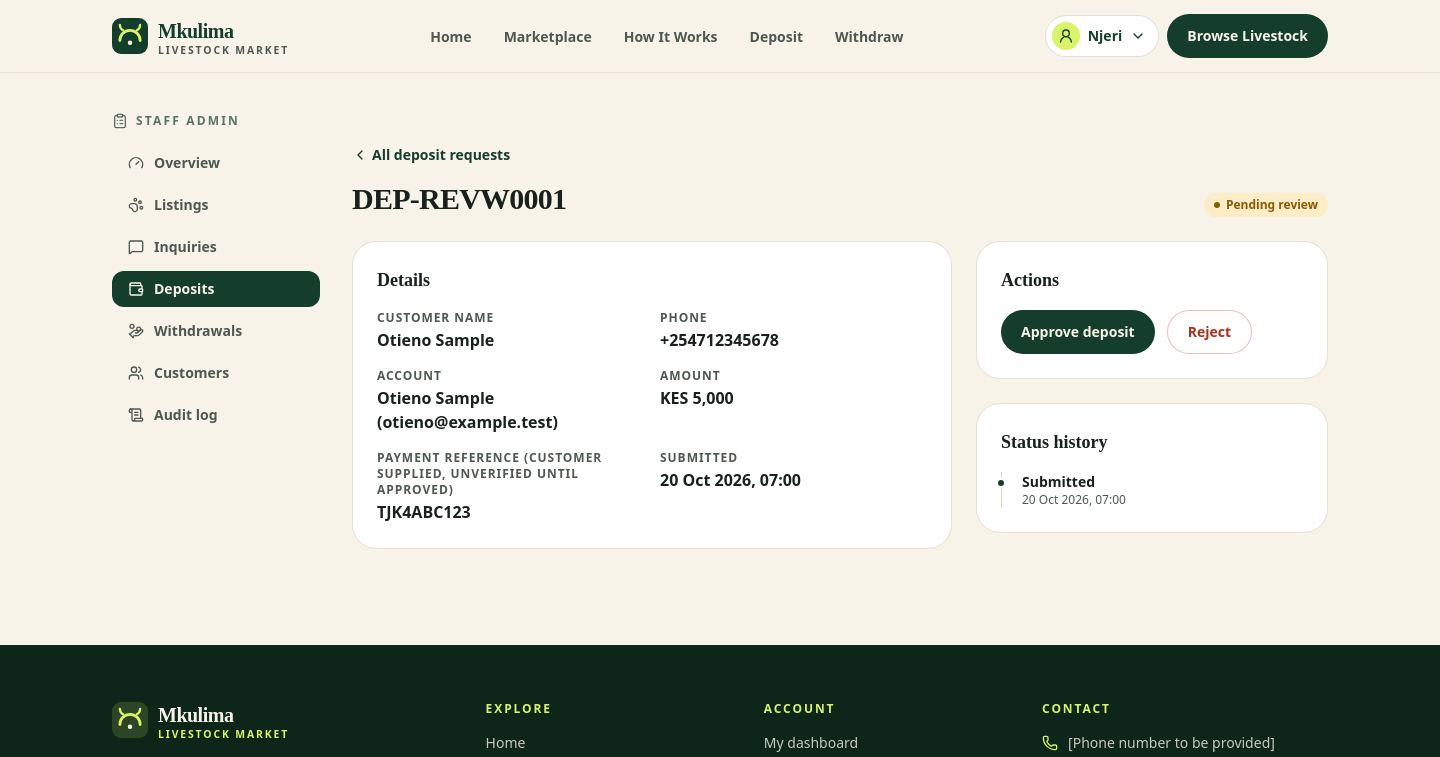
Staff admin › requires a reason to reject and shows server conflicts
The width and height of the screenshot is (1440, 757).
Click the button "Reject" at (1209, 332), box [1167,310,1252,354]
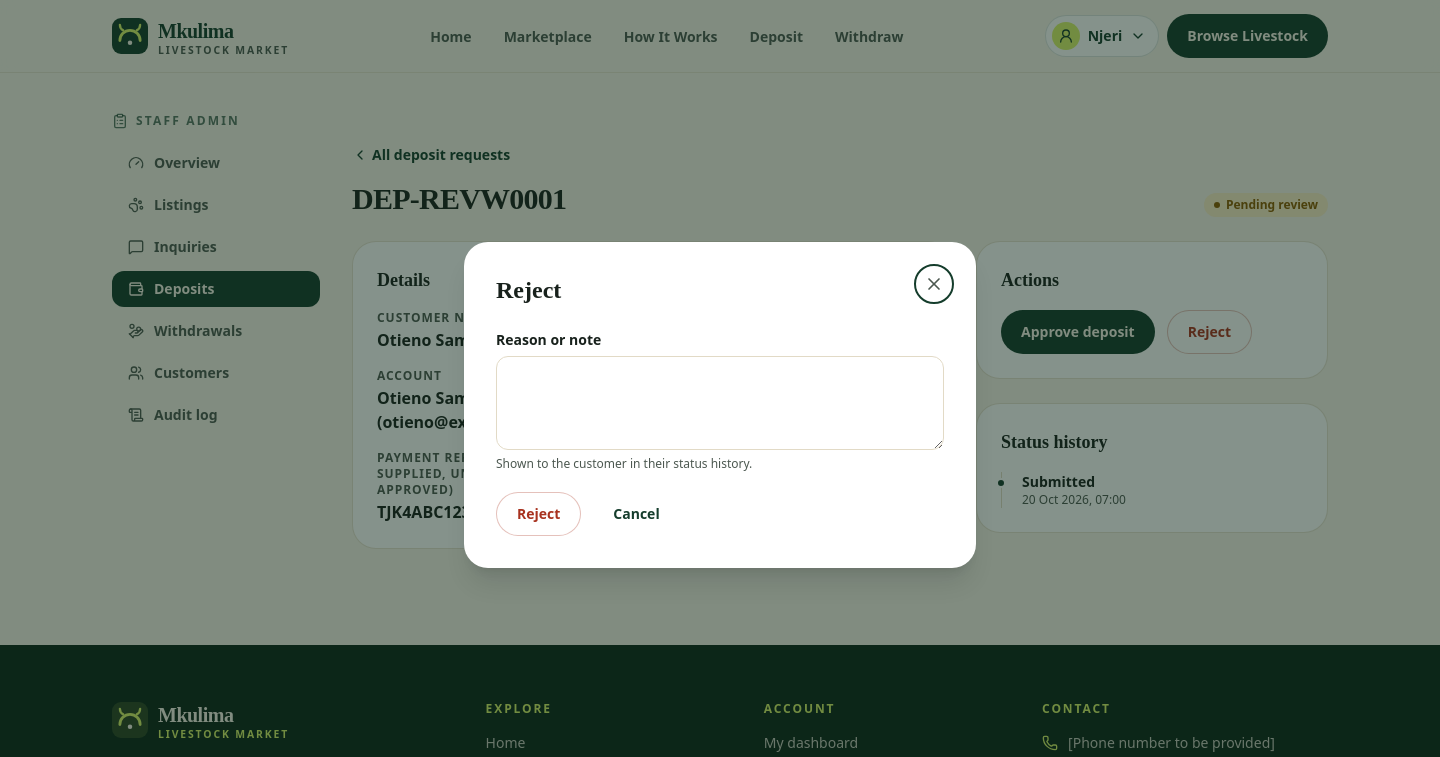
Click the button "Reject" at (539, 514), box [496,492,581,536]
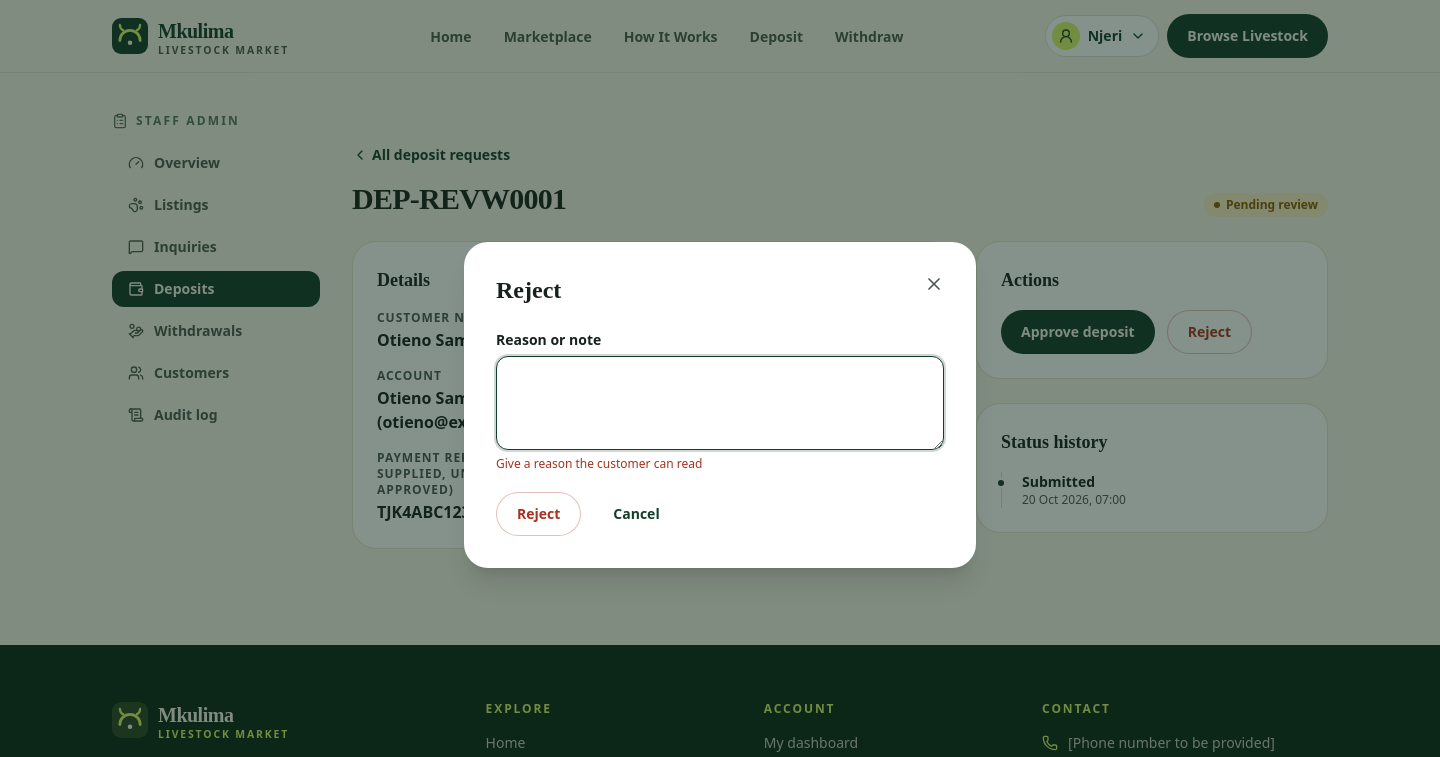
Now the text "Give a reason the customer can read" is shown, box [496,455,702,472]
Type "No matching payment found" into the text box labelled "Reason or note" at (720, 403), box [496,356,944,450]
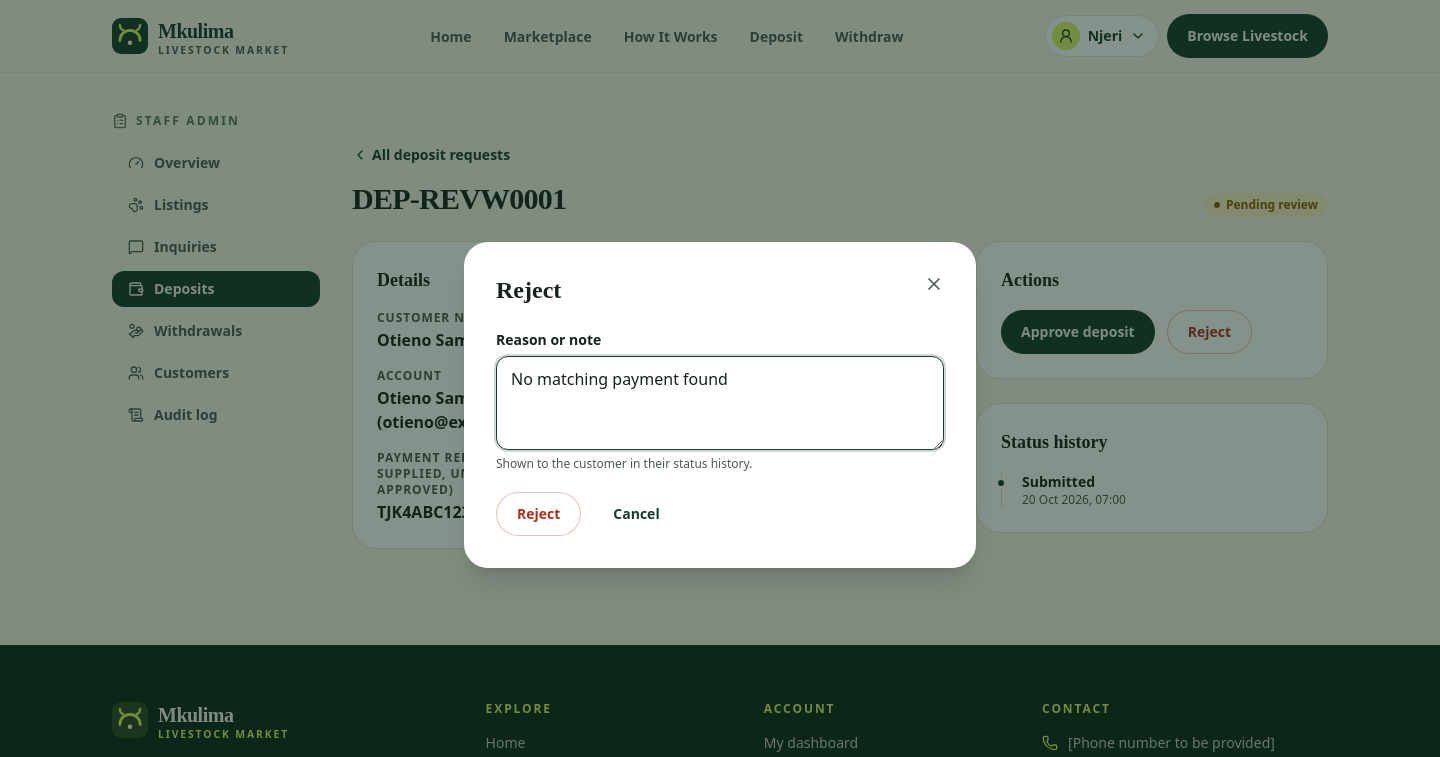
Click the button "Reject" at (539, 514), box [496,492,581,536]
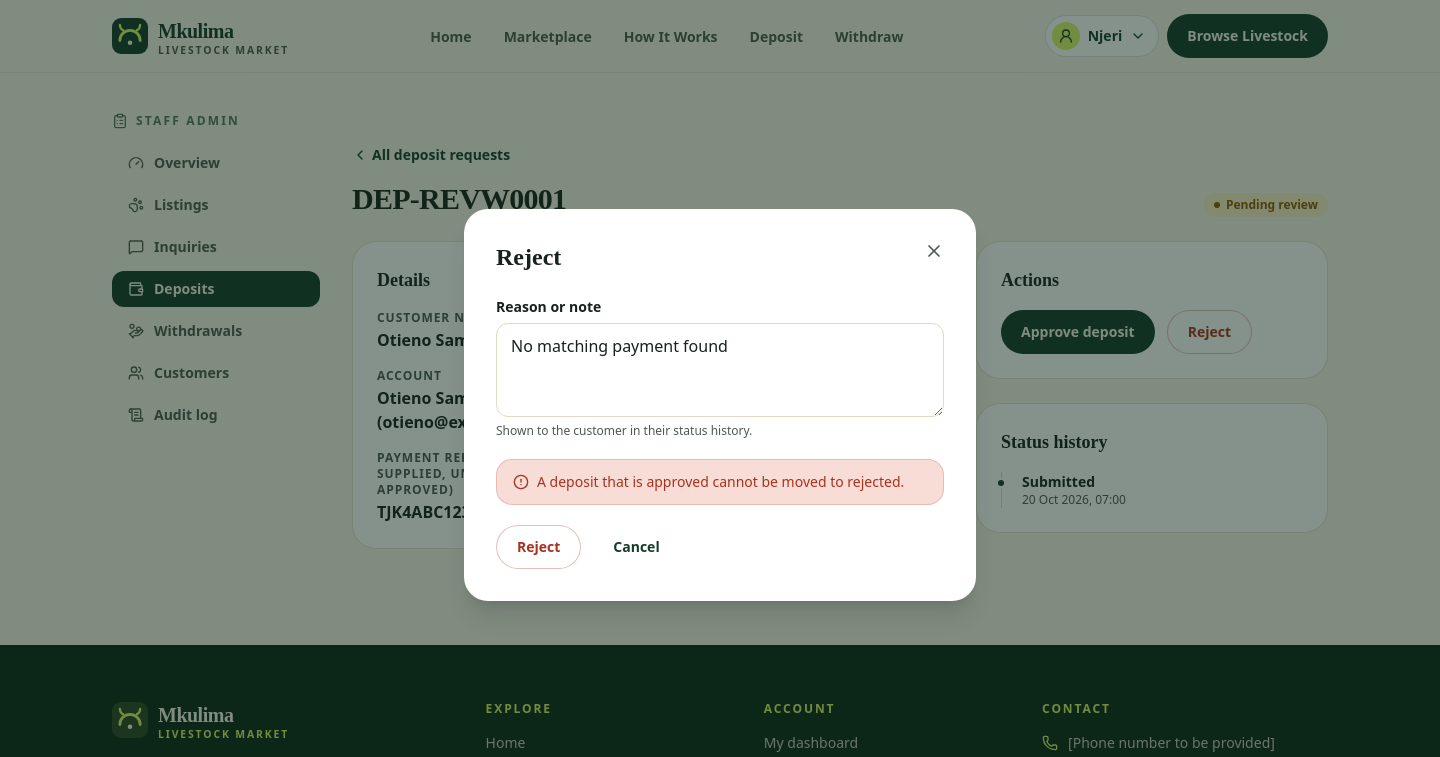
Now the text "A deposit that is approved cannot be moved to rejected." is shown, box [537,472,904,492]
